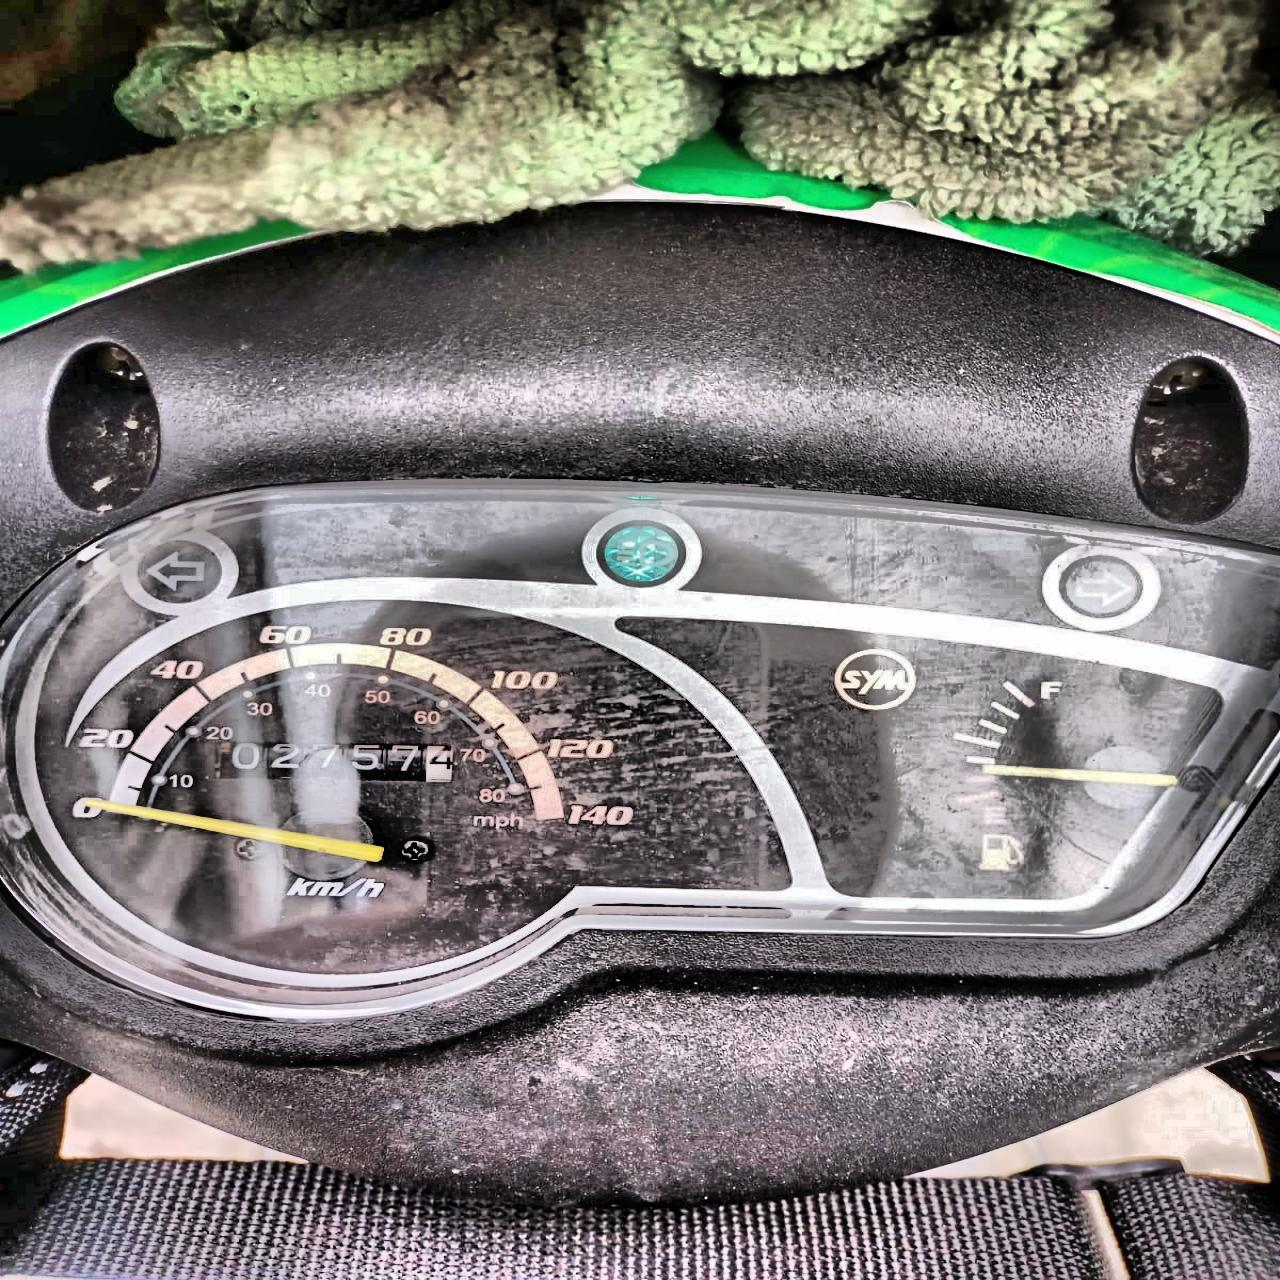0: (230, 742, 261, 770)
2: (268, 742, 302, 769)
4: (427, 745, 454, 772)
5: (349, 742, 380, 770)
7: (388, 742, 422, 771), (309, 742, 340, 769)
odometer: (215, 738, 456, 784)
